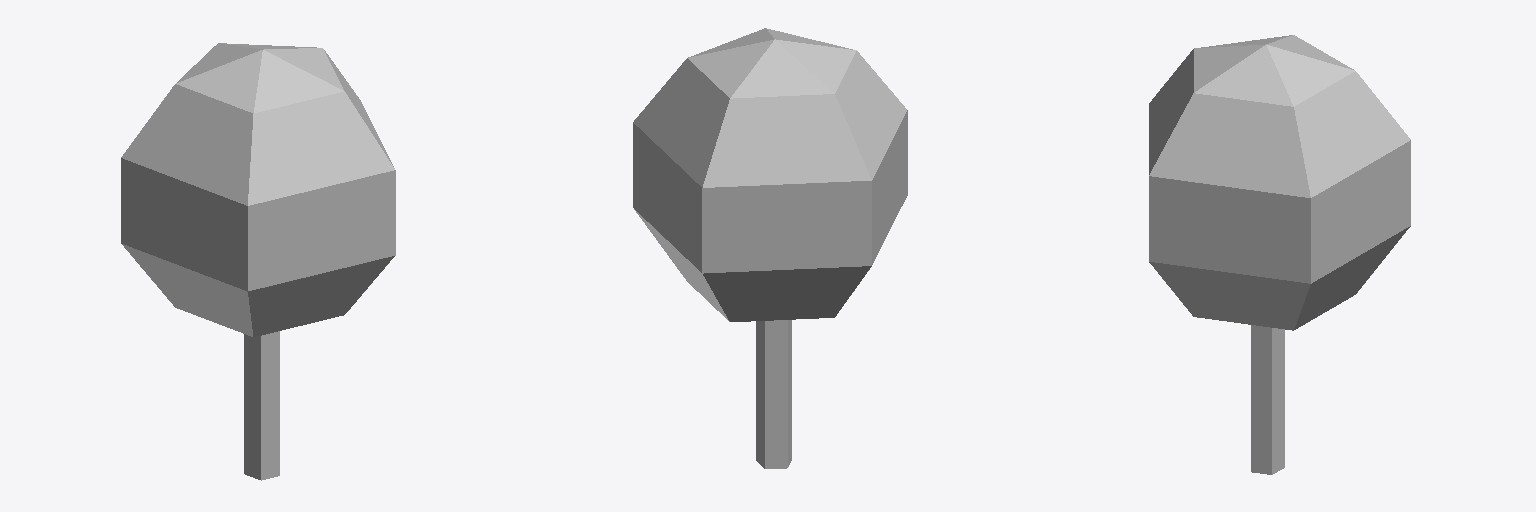
The model's file is Tree_1.obj.
3 renders of one model, left to right at view 1: azimuth 30°, elevation 25°; view 2: azimuth 150°, elevation 25°; view 3: azimuth 270°, elevation 25°, orthographic.
Parts seen in each view (by area): view 1: Cylinder; view 2: Cylinder; view 3: Cylinder.
Boxes of the visible parts, <box> form: Cylinder: <box>121,43,395,480</box>; Cylinder: <box>633,28,907,468</box>; Cylinder: <box>1149,35,1410,474</box>.
Bounding box in the file's own units: 14.47 × 24.47 × 13.76.